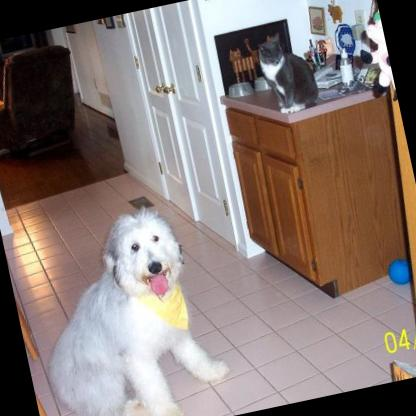Old_English_sheepdog: (14, 198, 238, 416)
